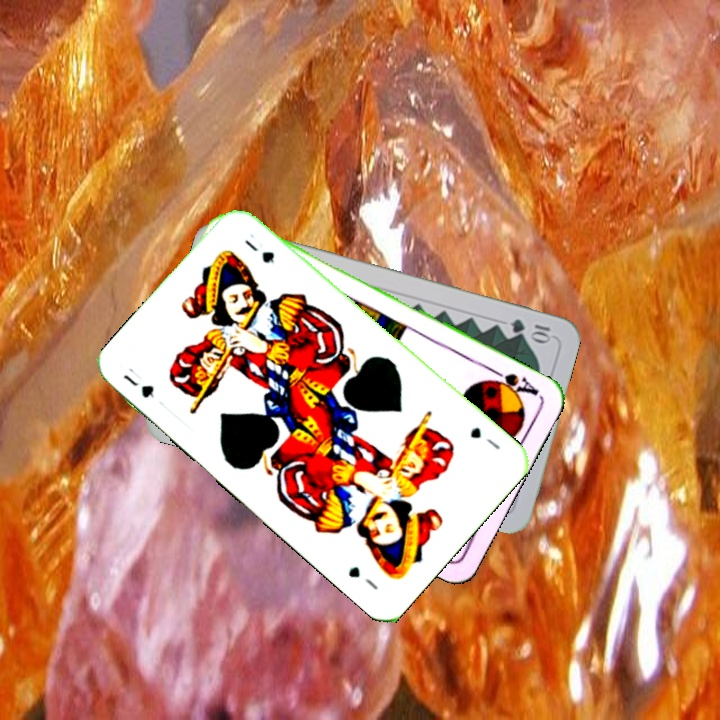G10: (507, 314, 553, 344)
GU: (119, 370, 157, 401), (466, 423, 503, 453)
SA: (482, 364, 542, 402)
